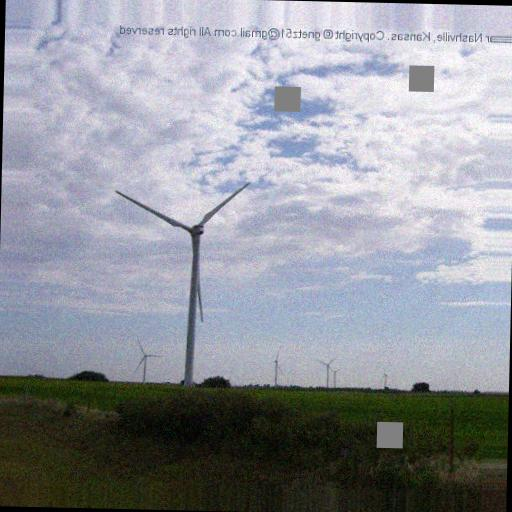wind turbine: (113, 181, 253, 378)
